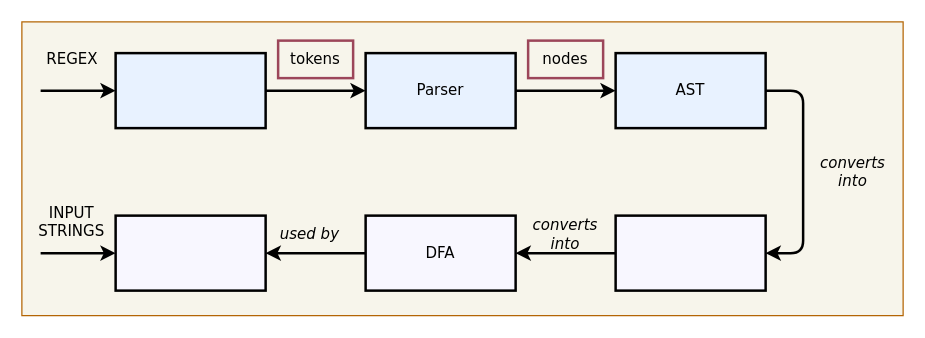
This 925x338 diagram has some shape labels left out. The shapes that lost their labels are listed below. From the top down, each one's centre as x and y in pixels, then its label:
At (x=190, y=90): "Scanner".
At (x=190, y=252): "Recognizer runtime".
At (x=690, y=252): "NFA".
